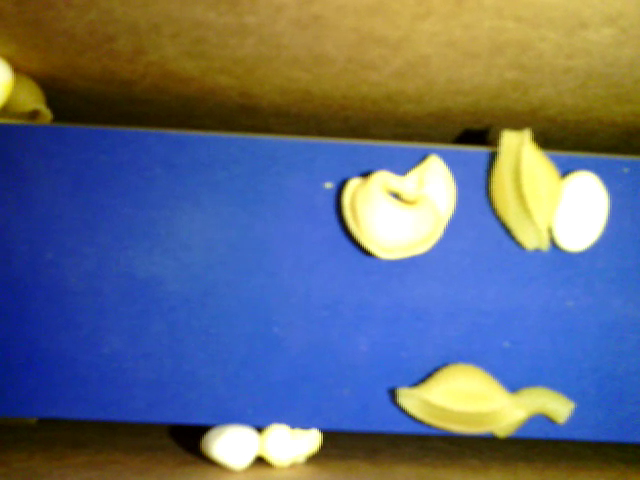elbow: (491, 383, 576, 440)
shell: (389, 359, 524, 434), (484, 127, 561, 253), (3, 73, 55, 130)
tortellini: (333, 153, 459, 260)
